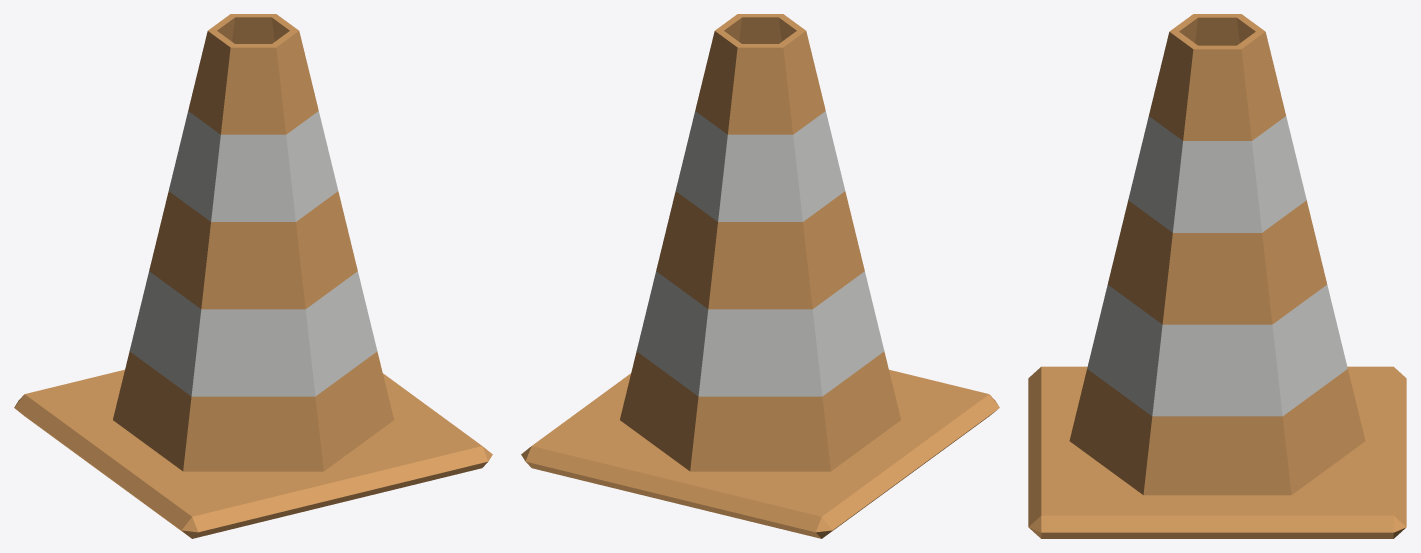
Rendered from TrafficCone.glb.
3 renders of one model, left to right at view 1: azimuth 30°, elevation 25°; view 2: azimuth 150°, elevation 25°; view 3: azimuth 270°, elevation 25°, orthographic. The views are drawn at different scales.
Visible parts, largest first — view 1: TrafficCone.obj; view 2: TrafficCone.obj; view 3: TrafficCone.obj.
Part boxes in pixels (box(x1,y1,x2,y2)): TrafficCone.obj: box(14, 14, 492, 538); TrafficCone.obj: box(521, 14, 999, 538); TrafficCone.obj: box(1028, 14, 1406, 538).
Size of the model in its own units: 0.9996 by 1.26 by 0.9996.
